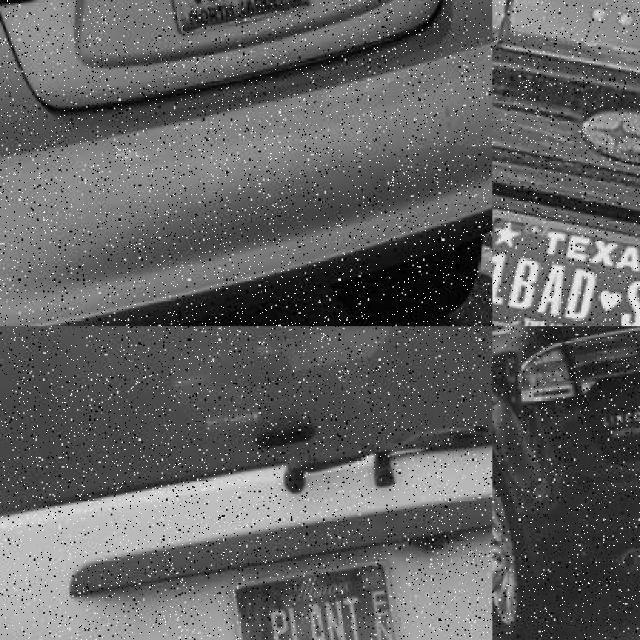LicensePlate: (491, 209, 639, 325), (227, 555, 398, 639)
